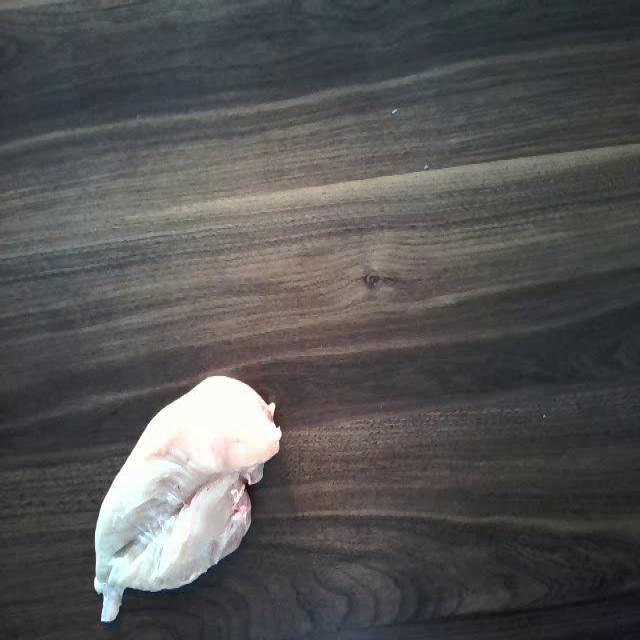breast: (90, 371, 278, 618)
